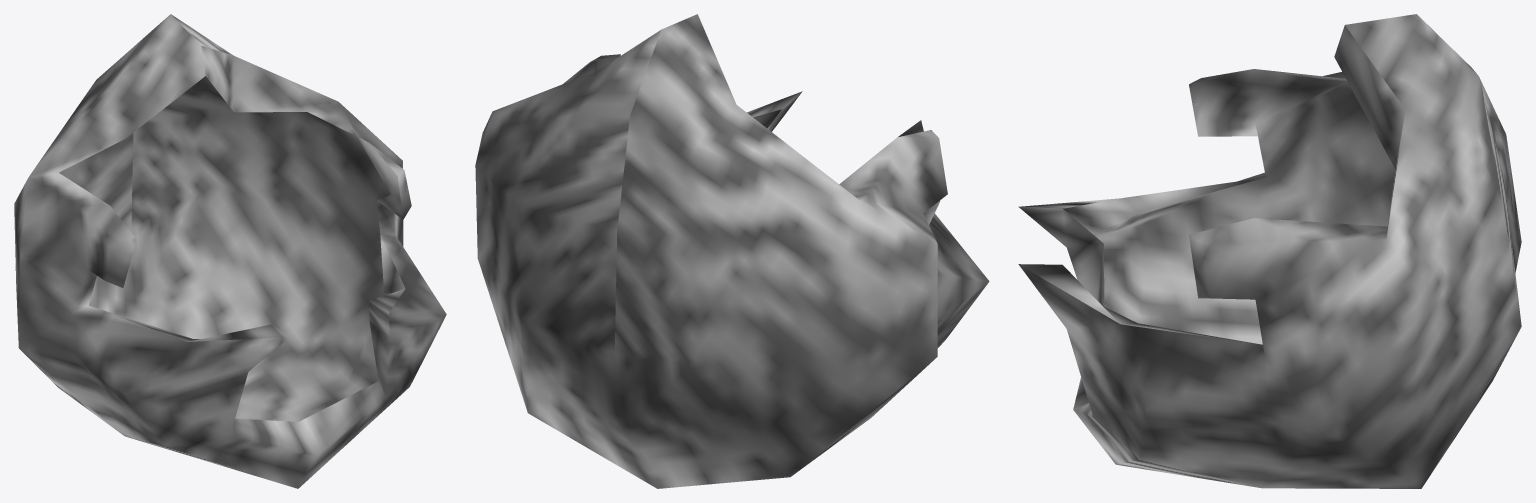
File: Wig_M_Hair_Messy.fbx
The picture shows the model from 3 angles, left to right: view 1: azimuth 30°, elevation 25°; view 2: azimuth 150°, elevation 25°; view 3: azimuth 270°, elevation 25°; orthographic projection. The views are drawn at different scales.
Visible parts, largest first — view 1: BoxOfJars003; view 2: BoxOfJars003; view 3: BoxOfJars003.
Part boxes in pixels (x1=…): BoxOfJars003: x1=14, y1=14, x2=446, y2=488; BoxOfJars003: x1=475, y1=14, x2=989, y2=488; BoxOfJars003: x1=1018, y1=14, x2=1521, y2=488.
Bounding box in the file's own units: 14.6 × 13.95 × 14.03.
